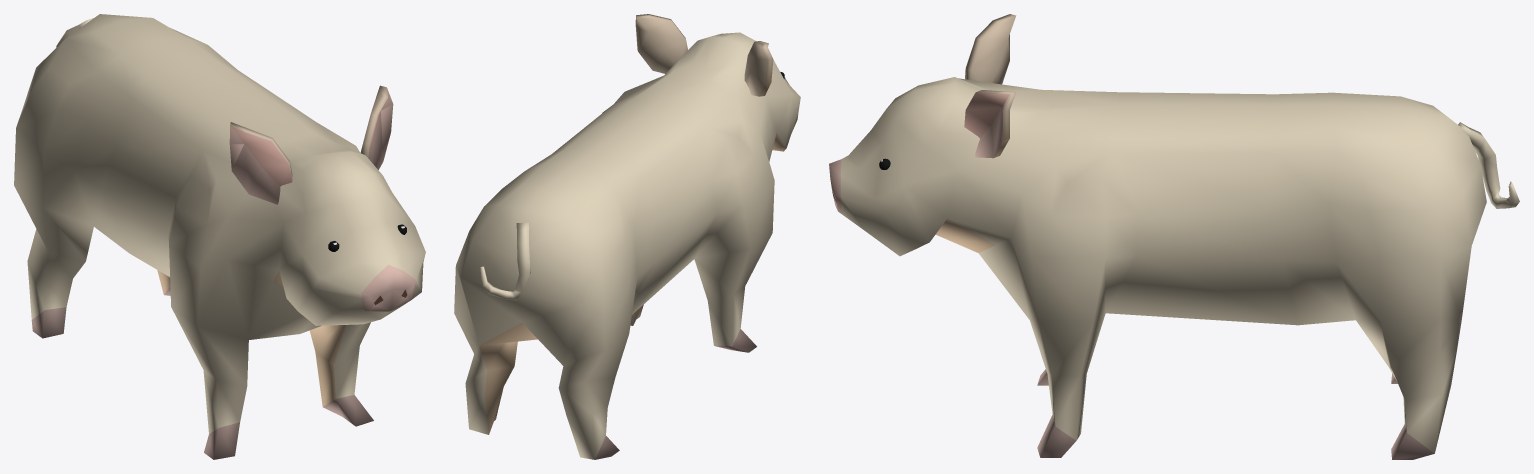
Rendered from pig.glb.
The picture shows the model from 3 angles, left to right: view 1: azimuth 30°, elevation 25°; view 2: azimuth 150°, elevation 25°; view 3: azimuth 270°, elevation 25°; orthographic projection. The views are drawn at different scales.
Parts seen in each view (by area): view 1: pig; view 2: pig; view 3: pig.
Part boxes in pixels (box(x1,y1,x2,y2)): pig: box(14, 14, 425, 459); pig: box(454, 14, 800, 459); pig: box(829, 14, 1519, 459).
Bounding box in the file's own units: 0.4093 × 0.6978 × 1.19.
